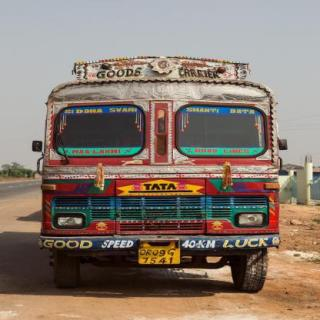Normal_vehicle: (34, 51, 290, 290)
